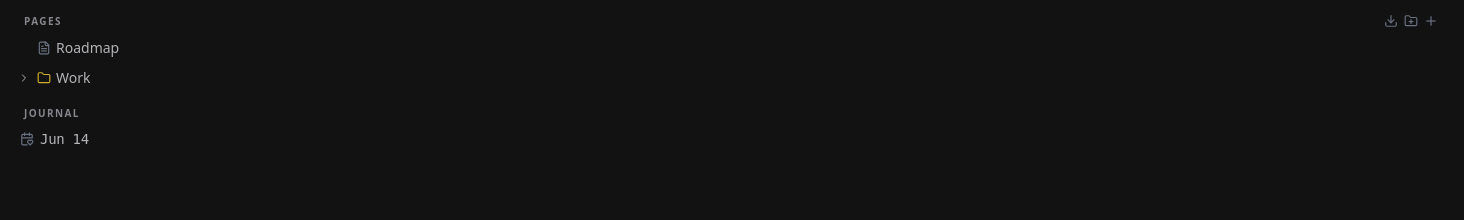
Scenario: VaultTree - right-click menu › offers a page row a sub-page instead of a folder
Right-click the text "Roadmap".
right_click(78, 48)  # box [37, 38, 119, 57]
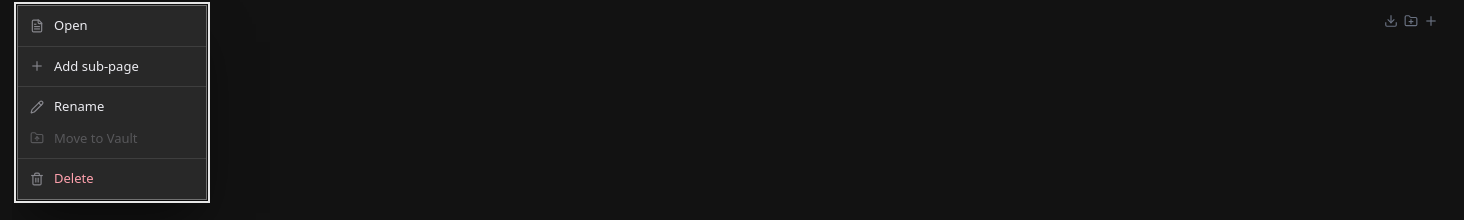
Expected: the menu items read "Open", "Add sub-page", "Rename", "Move to Vault", "Delete", in this order, [18, 10, 206, 42]; [18, 50, 206, 82]; [18, 91, 206, 122]; [18, 122, 206, 154]; [18, 163, 206, 194]
